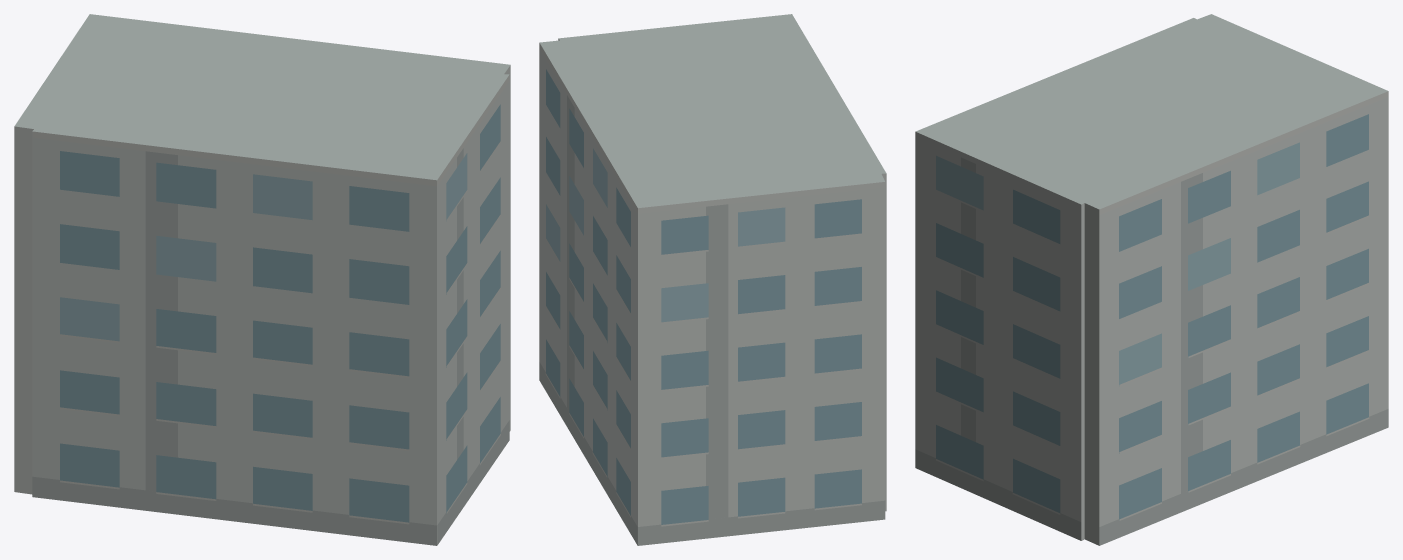
File: survey-upis-33012927.glb
3 renders of one model, left to right at view 1: azimuth 30°, elevation 25°; view 2: azimuth 150°, elevation 25°; view 3: azimuth 270°, elevation 25°, orthographic. The views are drawn at different scales.
Parts seen in each view (by area): view 1: survey-upis-33012927.tmp; view 2: survey-upis-33012927.tmp; view 3: survey-upis-33012927.tmp.
Boxes of the visible parts, bbox=[...] form: survey-upis-33012927.tmp: bbox=[14, 14, 510, 545]; survey-upis-33012927.tmp: bbox=[539, 14, 886, 545]; survey-upis-33012927.tmp: bbox=[915, 14, 1388, 545].
Size of the model in its own units: 17.96 by 14.4 by 18.37.
